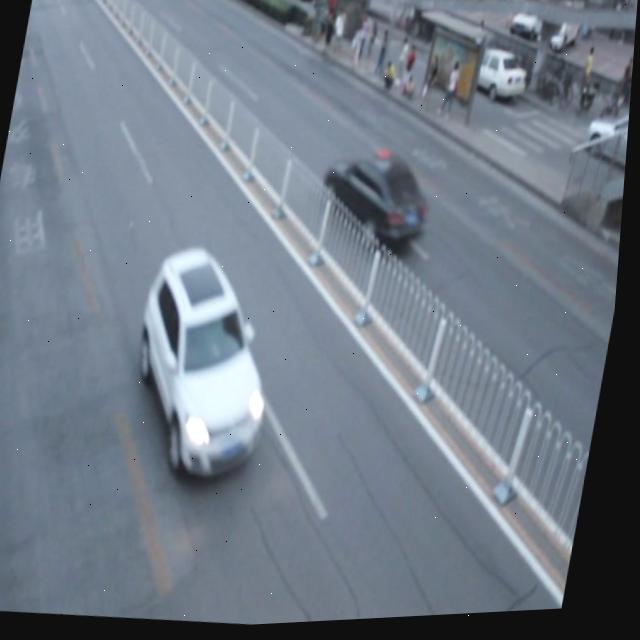car: (121, 242, 297, 485), (316, 143, 443, 255)
